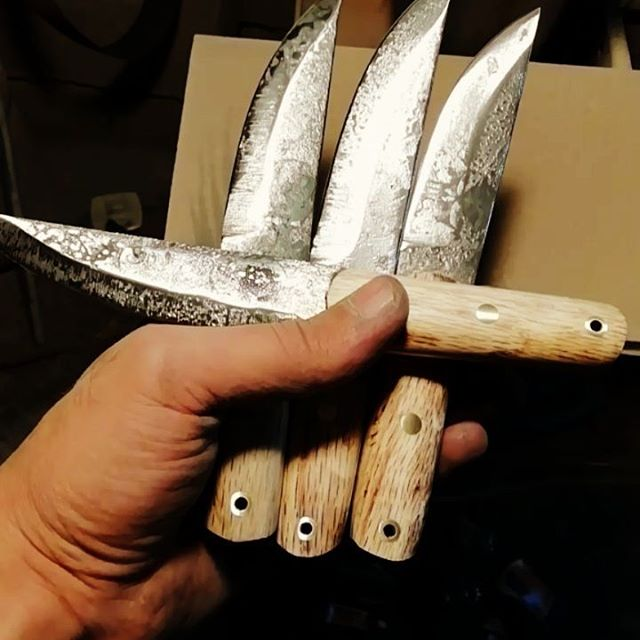knife: (348, 9, 542, 562), (277, 1, 448, 557), (1, 214, 627, 364), (208, 1, 342, 544)
